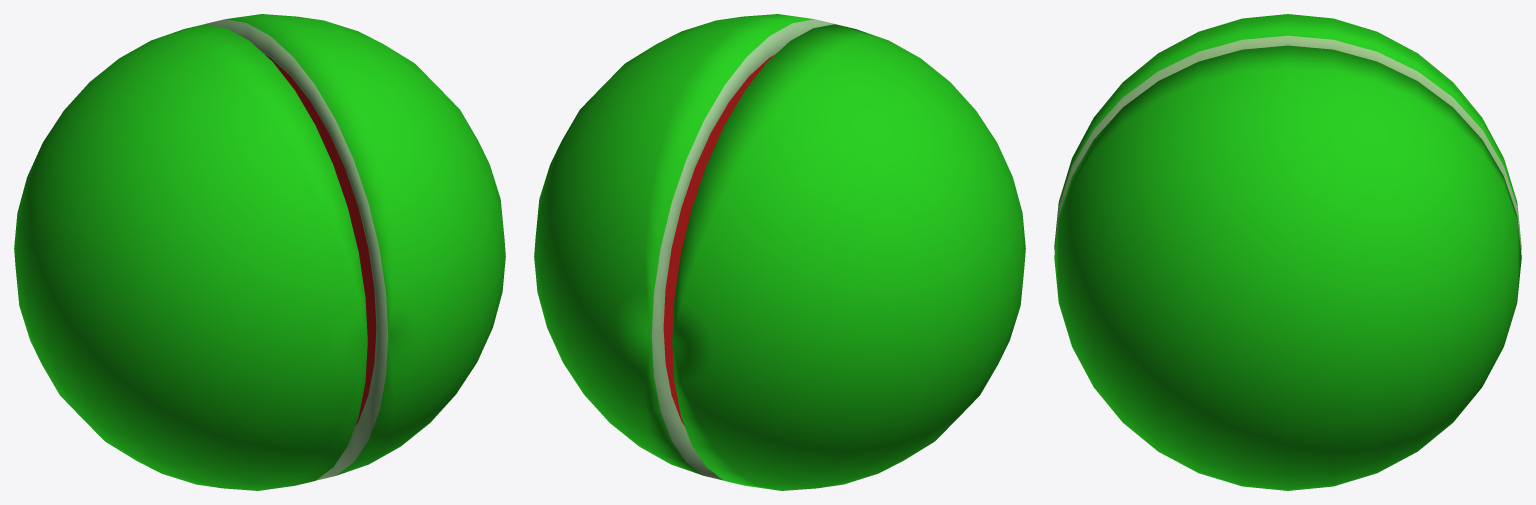
File: Watermelon_Cut.fbx
3 views of the same model, side by side, from view 1: azimuth 30°, elevation 25°; view 2: azimuth 150°, elevation 25°; view 3: azimuth 270°, elevation 25° (orthographic).
Parts seen in each view (by area): view 1: Sphere.001, Sphere (×3); view 2: Sphere.001, Sphere (×3); view 3: Sphere, Sphere.001 (×2).
Boxes of the visible parts, x1,y1,x2,y2 form: Sphere.001: (14, 24, 367, 490); Sphere (×3): (204, 14, 505, 480); Sphere.001: (672, 24, 1025, 490); Sphere (×3): (534, 14, 835, 480); Sphere: (1054, 45, 1521, 490); Sphere.001 (×2): (1054, 14, 1521, 251).
Size of the model in its own units: 2.1 by 2 by 2.
